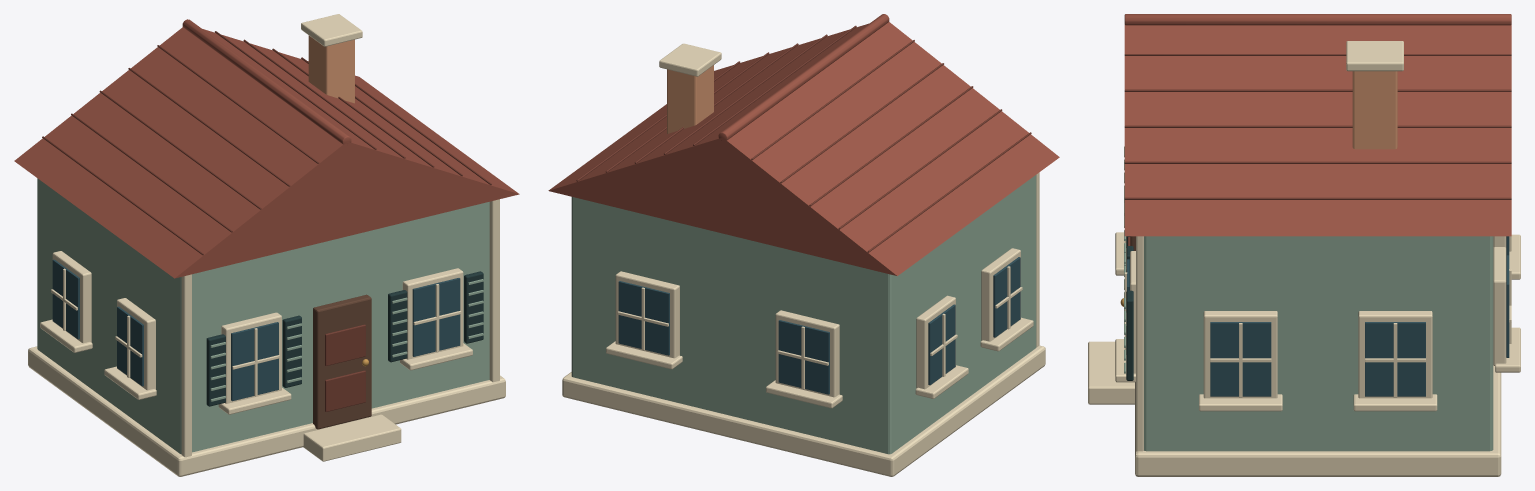
Rendered from house_cottage.glb.
3 renders of one model, left to right at view 1: azimuth 30°, elevation 25°; view 2: azimuth 150°, elevation 25°; view 3: azimuth 270°, elevation 25°, orthographic. The views are drawn at different scales.
Visible parts, largest first — view 1: Gabled terracotta roof, Plaster walls, Foundation, Front door, Window glass.001, Window glass, Door step, Chimney, Ridge cap, Corner trim.001, Corner trim, Window glass.003 (+16 smaller); view 2: Gabled terracotta roof, Plaster walls, Foundation, Window glass.006, Window glass.007, Chimney, Ridge cap, Window surround.007, Window surround.006, Window glass.003, Window glass.002, Window surround.002 (+7 smaller); view 3: Gabled terracotta roof, Plaster walls, Foundation, Ridge cap, Window glass.004, Window glass.005, Chimney, Door step, Window surround.004, Window surround.005, Chimney cap, Corner trim.001 (+13 smaller).
Boxes of the visible parts, x1,y1,x2,y2 form: Gabled terracotta roof: (14,27,519,278); Plaster walls: (37,178,489,454); Foundation: (28,346,505,476); Front door: (313,294,371,429); Window glass.001: (412,278,460,356); Window glass: (231,322,278,401); Door step: (303,414,401,461); Chimney: (308,35,354,103); Ridge cap: (182,19,351,144); Corner trim.001: (489,199,499,382); Corner trim: (181,274,191,457); Window glass.003: (52,259,79,339); Gabled terracotta roof: (548,22,1059,275); Plaster walls: (571,175,1036,454); Foundation: (562,345,1045,476); Window glass.006: (778,320,829,394); Window glass.007: (618,281,669,355); Chimney: (667,65,713,133); Ridge cap: (718,14,889,140); Window surround.007: (615,271,679,358); Window surround.006: (775,310,839,397); Window glass.003: (928,304,955,385); Window glass.002: (993,257,1020,337); Window surround.002: (981,248,1020,341); Gabled terracotta roof: (1124,25,1511,236); Plaster walls: (1144,236,1493,451); Foundation: (1135,365,1501,476); Ridge cap: (1124,14,1511,25); Window glass.004: (1210,322,1271,396); Window glass.005: (1365,322,1425,396); Chimney: (1352,71,1397,149); Door step: (1088,341,1134,404); Window surround.004: (1203,311,1277,398); Window surround.005: (1358,311,1432,398); Chimney cap: (1346,41,1403,71); Corner trim.001: (1136,236,1143,451).
Size of the model in its own units: 6.08 by 5.18 by 5.31.
